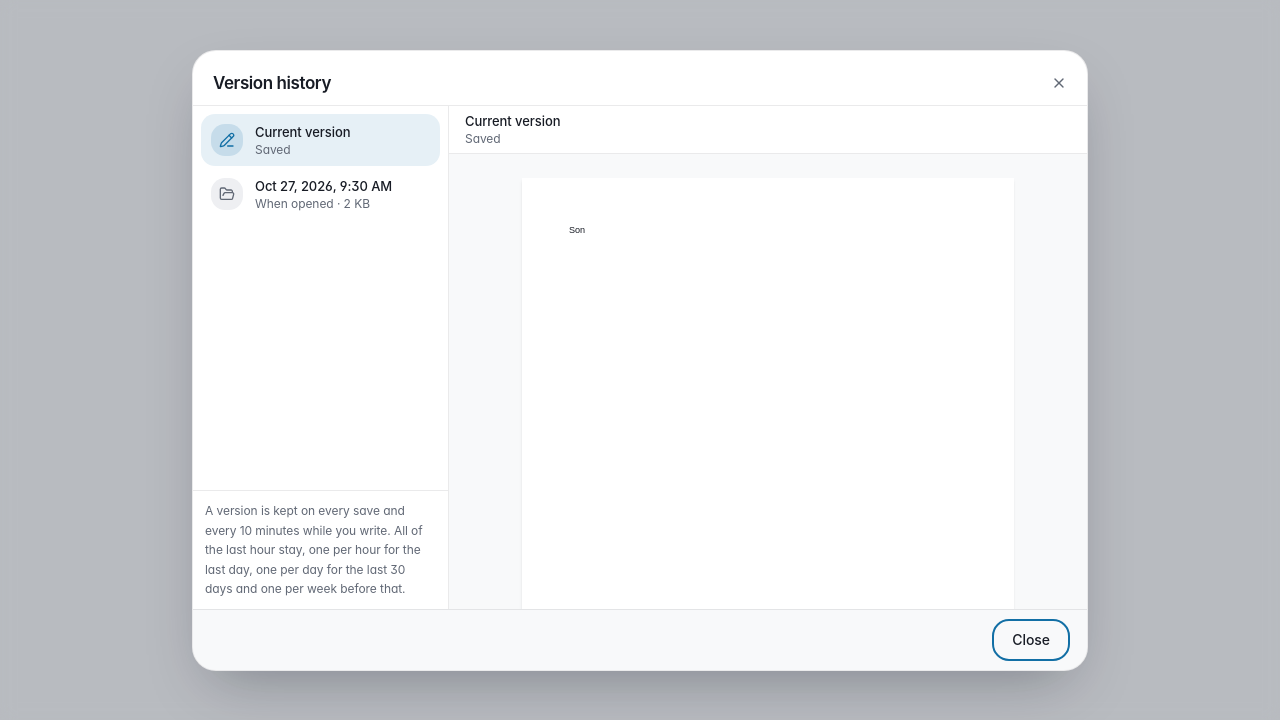
version history dialog › tells when the chosen version disappeared and refreshes the list
Click the button with test id "versions-item" at (320, 194), box x1=201 y1=168 x2=440 y2=220
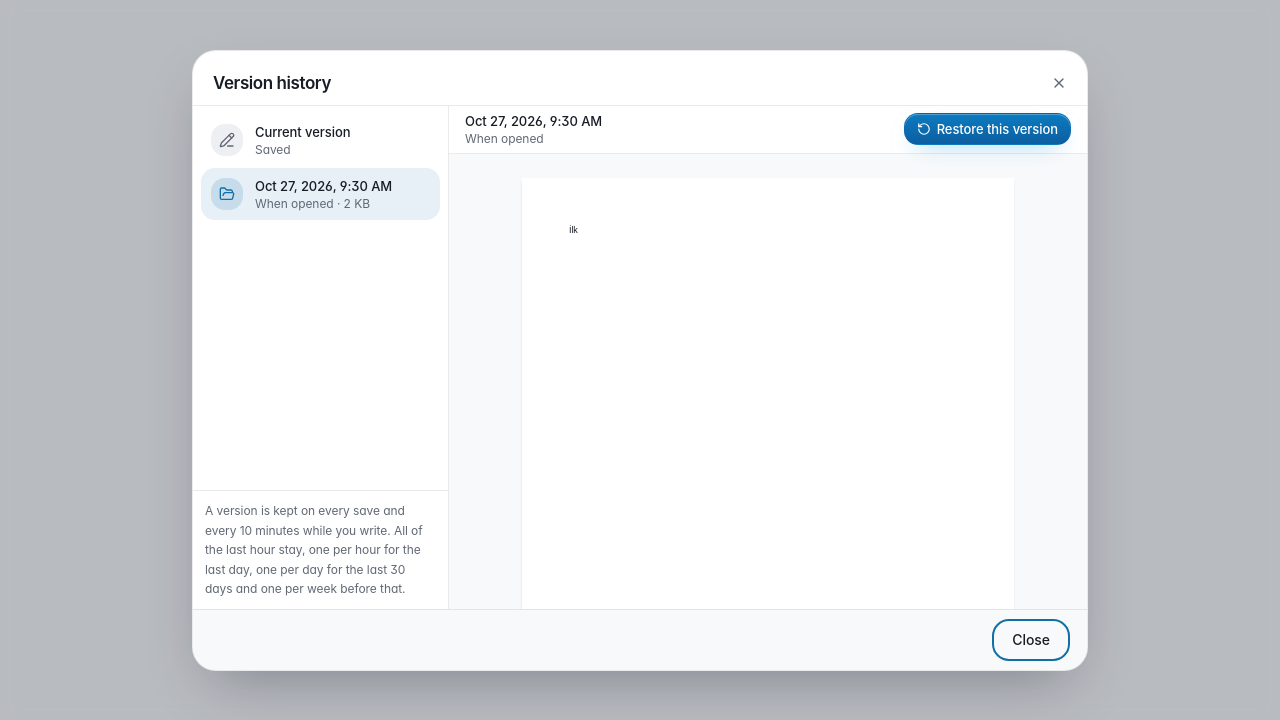
Now the field with test id "version-preview-body" reads "İlk", box x1=569 y1=225 x2=578 y2=235
Click the button with test id "versions-restore" at (987, 129), box x1=904 y1=113 x2=1071 y2=145
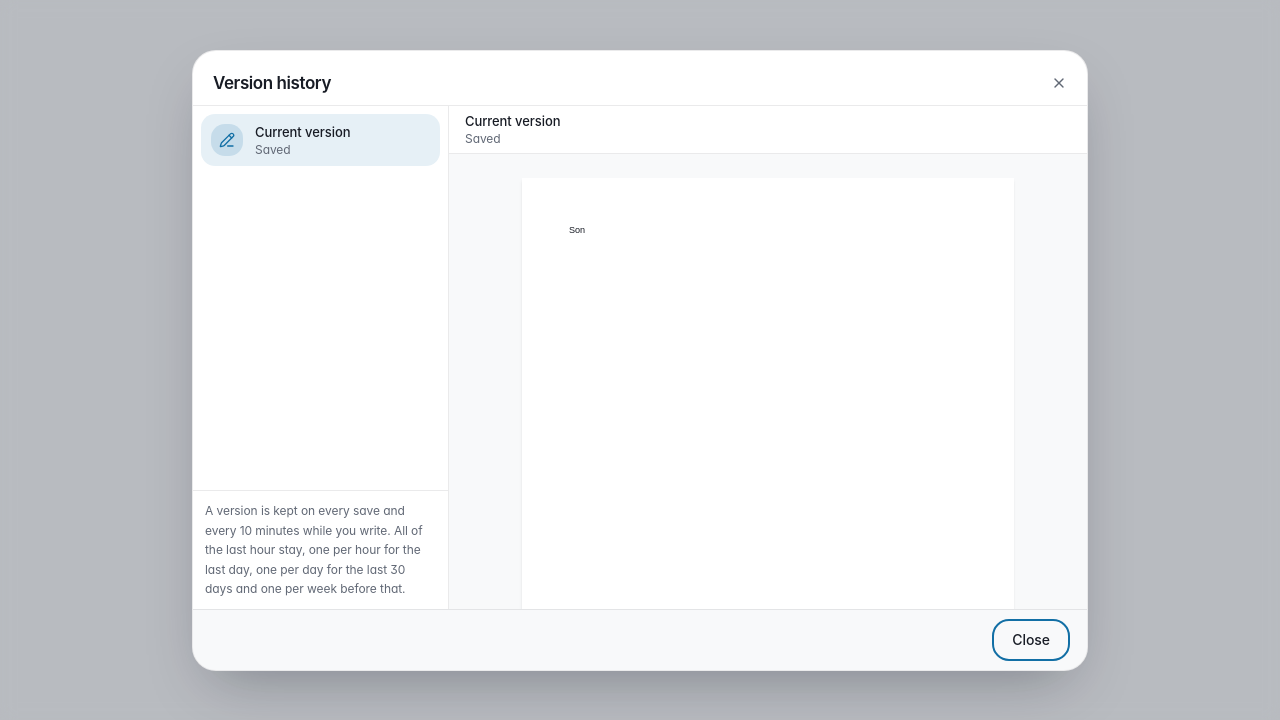
Now no buttons with test id "versions-item" are shown
